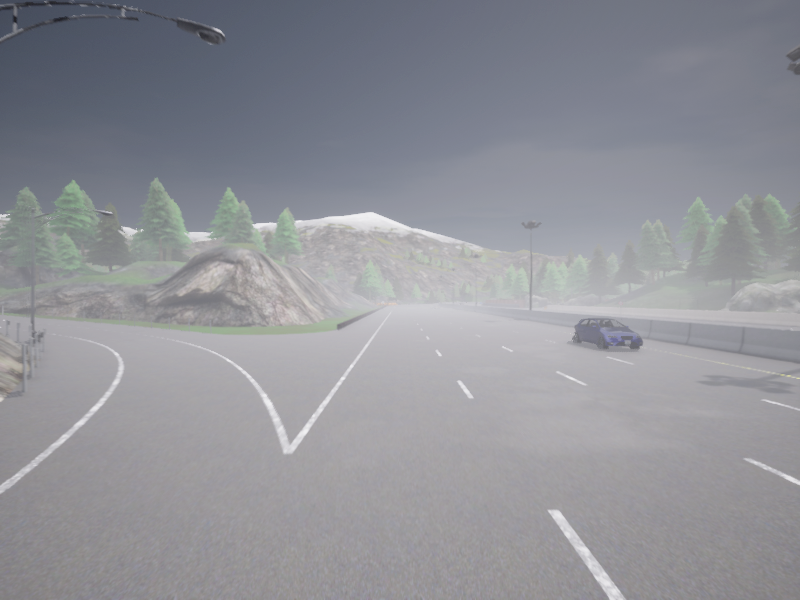vehicle: (573, 318, 642, 349), (460, 302, 464, 304), (480, 302, 482, 303)
